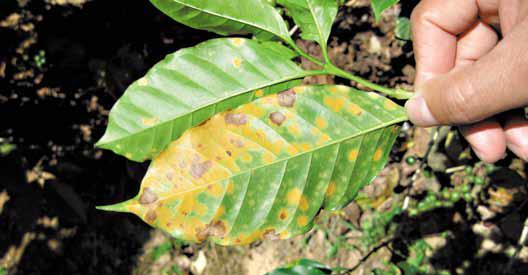roya: (106, 85, 393, 180)
